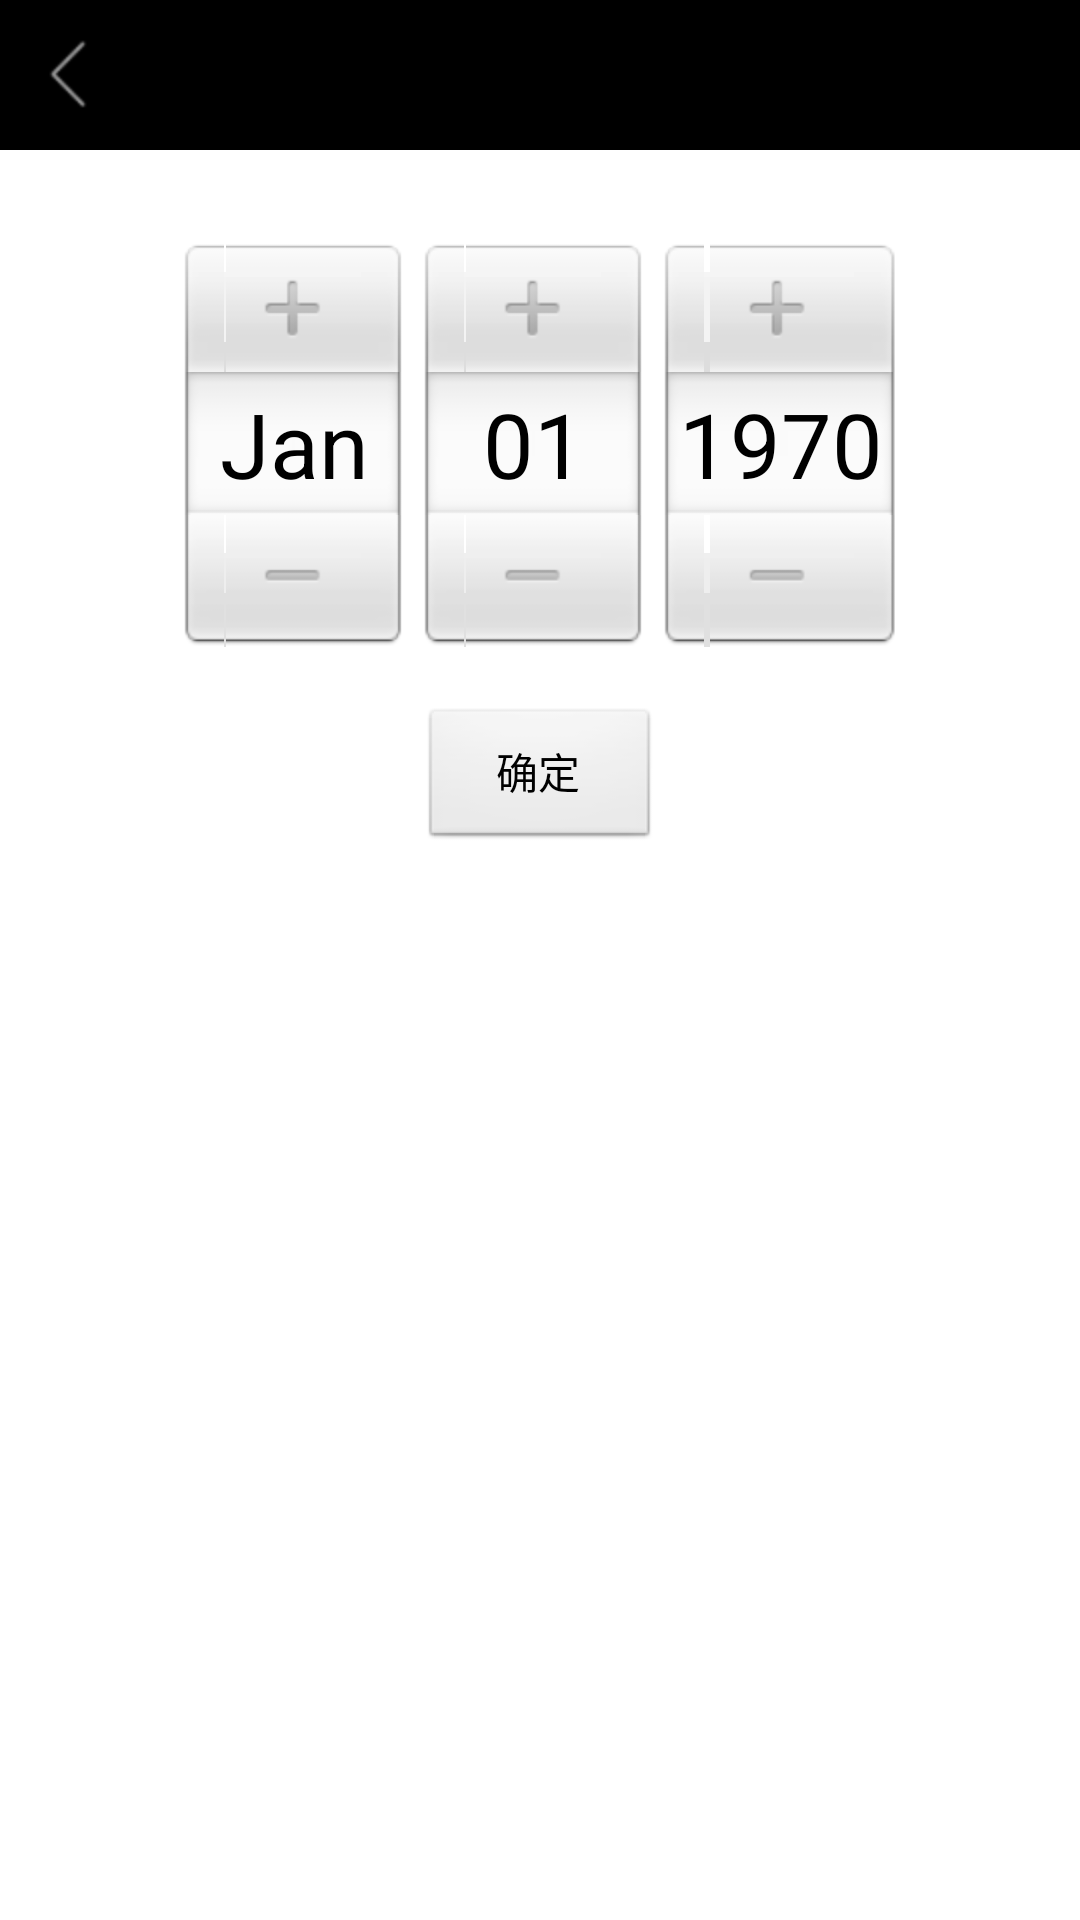

Screen size 1080x1920. Icon name, then its box in pixels as (x1=x1, y1=y1, x2=x2, y2=y2):
back: (x1=50, y1=41, x2=86, y2=107)
